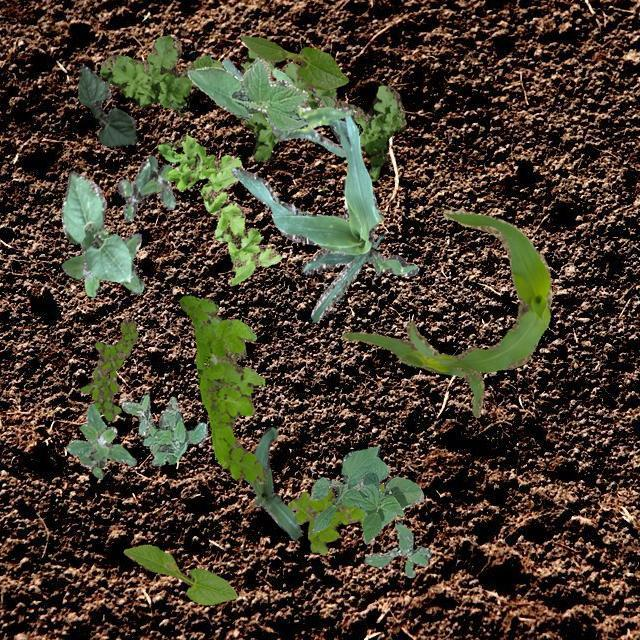crop: (342, 208, 550, 416), (230, 114, 418, 320), (220, 58, 352, 156), (308, 444, 422, 542), (186, 56, 308, 130), (59, 170, 132, 282), (122, 544, 236, 604), (240, 34, 348, 89), (248, 426, 300, 540), (76, 62, 134, 146)
weed: (98, 34, 404, 180), (157, 133, 280, 284), (178, 294, 266, 482), (286, 482, 384, 554), (120, 394, 207, 466), (78, 318, 136, 419), (61, 228, 142, 296), (66, 402, 136, 478), (116, 154, 174, 220), (362, 520, 430, 576)
